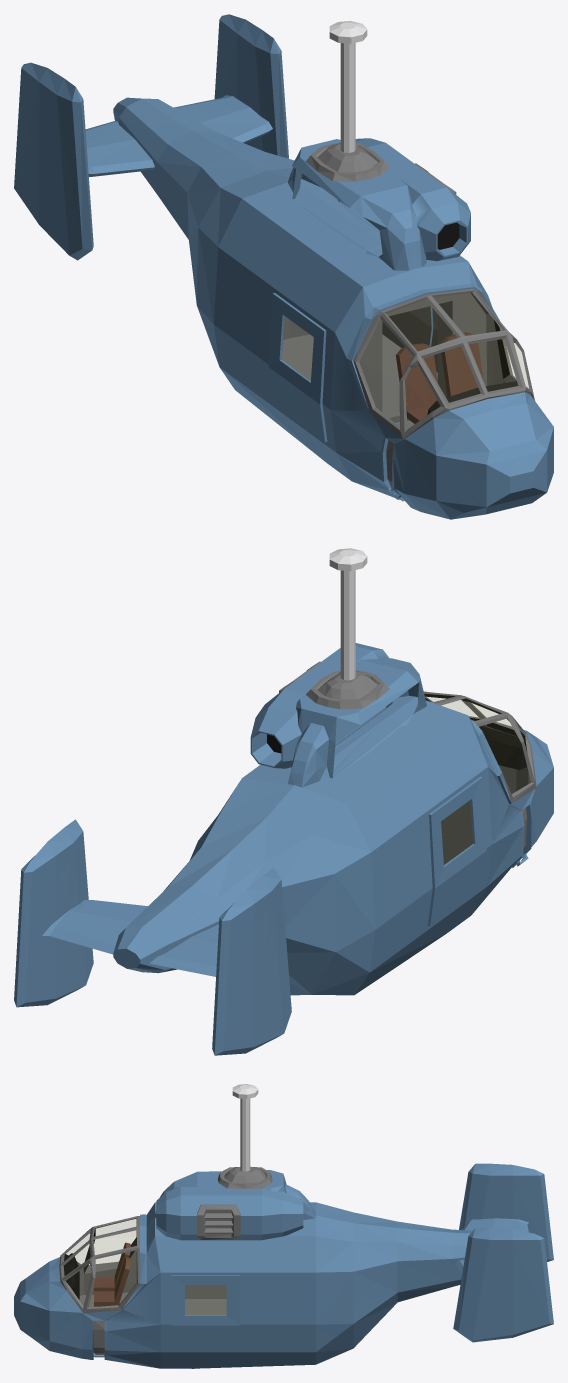
The model's file is aircraft 9 new.glb.
The picture shows the model from 3 angles, top to bottom: view 1: azimuth 30°, elevation 25°; view 2: azimuth 150°, elevation 25°; view 3: azimuth 270°, elevation 25°; orthographic projection. The views are drawn at different scales.
Visible parts, largest first — view 1: Fuselage, Door, Engines, Seat, RotorShaft; view 2: Fuselage, Door, Engines, RotorShaft; view 3: Fuselage, Engines, Door, Seat, RotorShaft.
Part boxes in pixels (x1=…): Fuselage: x1=14, y1=14, x2=553, y2=519; Door: x1=268, y1=293, x2=437, y2=442; Engines: x1=337, y1=138, x2=470, y2=261; Seat: x1=395, y1=332, x2=483, y2=423; RotorShaft: x1=329, y1=21, x2=367, y2=152; Fuselage: x1=14, y1=658, x2=553, y2=1055; Door: x1=428, y1=776, x2=486, y2=925; Engines: x1=250, y1=643, x2=392, y2=768; RotorShaft: x1=329, y1=548, x2=367, y2=680; Fuselage: x1=14, y1=1163, x2=553, y2=1368; Engines: x1=156, y1=1187, x2=303, y2=1240; Door: x1=171, y1=1275, x2=239, y2=1349; Seat: x1=94, y1=1242, x2=130, y2=1306; RotorShaft: x1=232, y1=1084, x2=258, y2=1171.
Bounding box in the file's own units: 3.24 × 5.98 × 10.61.
